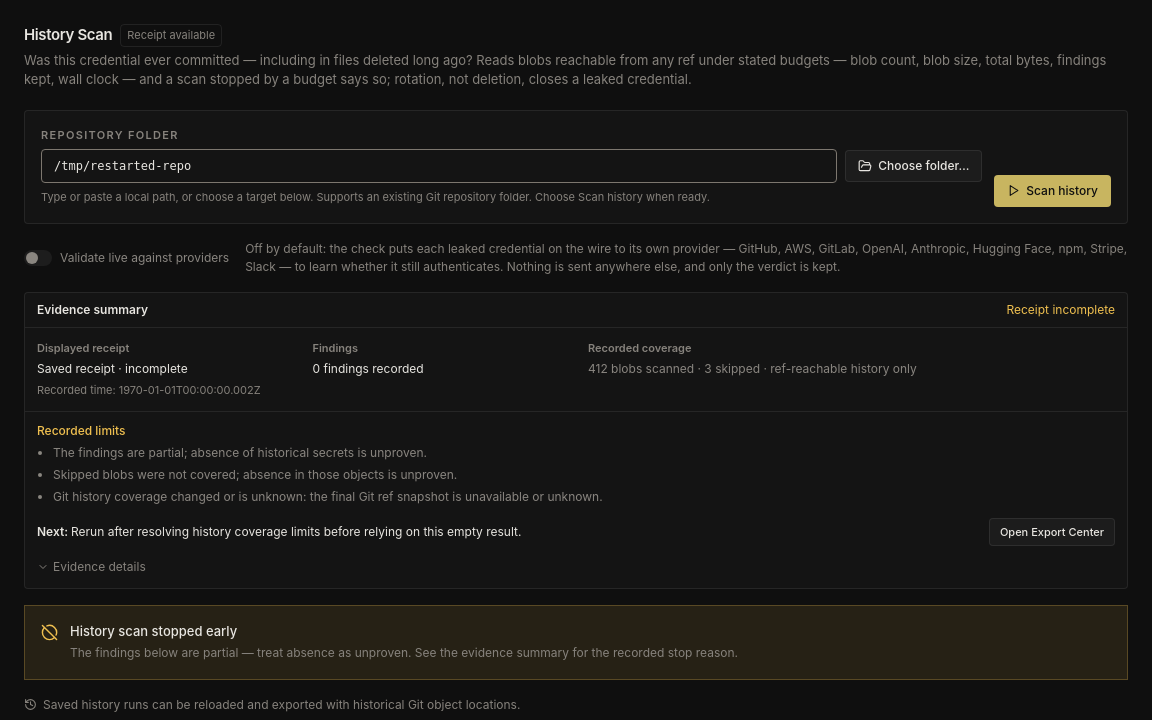
Test: history reopens the latest canonical receipt after restart without a selected project
This screenshot has width=1152, height=720.
expect the text "latest-history" is not shown: met
Click the button "Evidence details" at (91, 567), box [37,558,146,576]
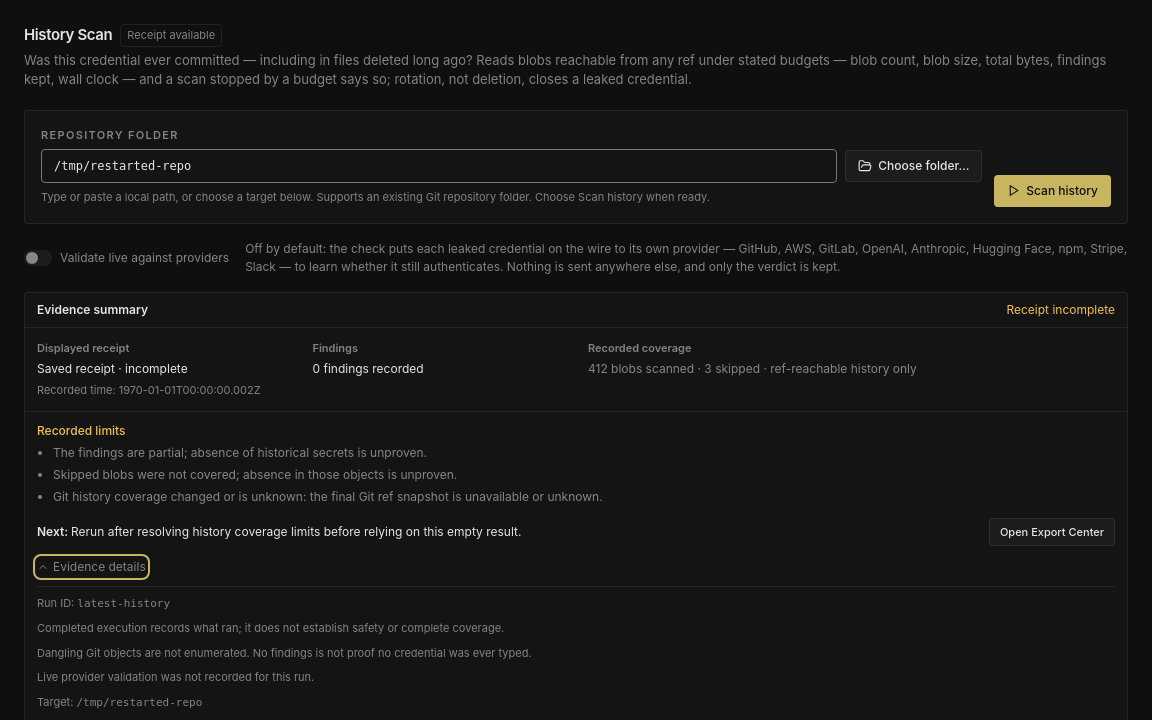
expect the field labelled "Repository folder" holds "/tmp/restarted-repo": met, box [41,149,837,183]
expect the text "latest-history" is shown: met, box [77,597,170,610]
